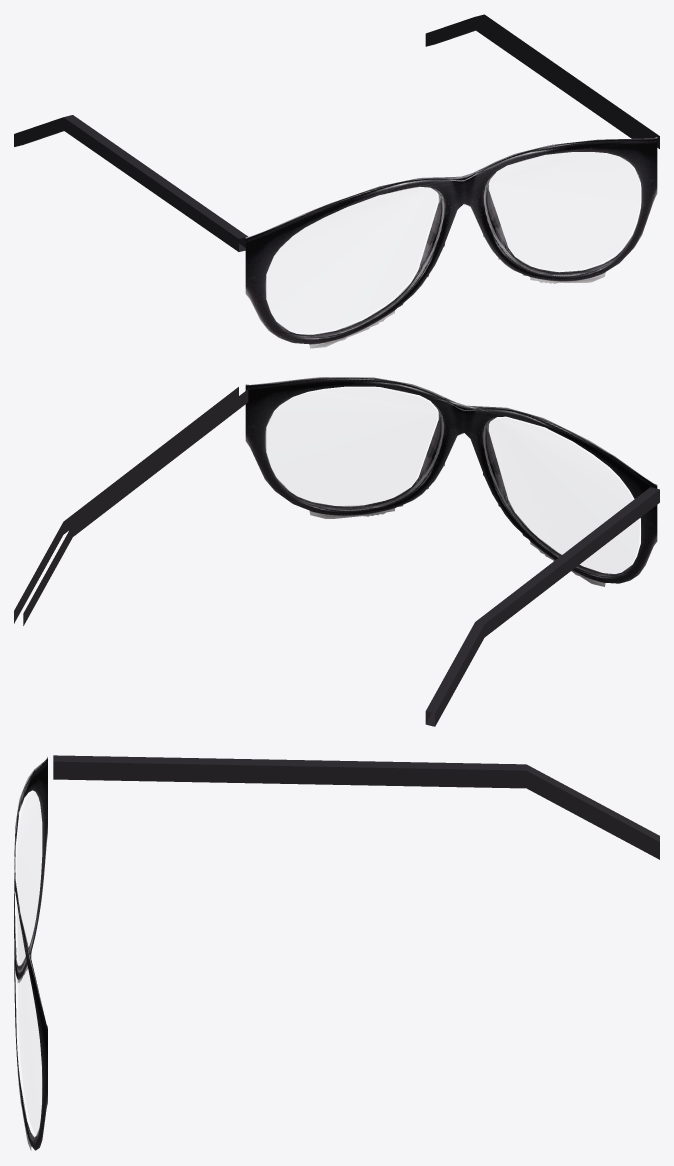
File: gothamstyle-233_black.glb
The picture shows the model from 3 angles, top to bottom: view 1: azimuth 30°, elevation 25°; view 2: azimuth 150°, elevation 25°; view 3: azimuth 270°, elevation 25°; orthographic projection. The views are drawn at different scales.
Parts seen in each view (by area): view 1: frame_front, temple_viewer_left, temple_viewer_right; view 2: frame_front, temple_viewer_left, temple_viewer_right; view 3: temple_viewer_left, frame_front.
Part boxes in pixels (<box>): frame_front: <box>245,137,657,348</box>; temple_viewer_left: <box>14,115,247,251</box>; temple_viewer_right: <box>425,14,659,148</box>; frame_front: <box>245,377,657,586</box>; temple_viewer_left: <box>425,487,659,726</box>; temple_viewer_right: <box>14,387,248,625</box>; temple_viewer_left: <box>53,755,659,859</box>; frame_front: <box>14,756,47,1150</box>.
Bounding box in the file's own units: 0.133 × 0.0457 × 0.131.
Materials: 3 (2 with a texture image).
